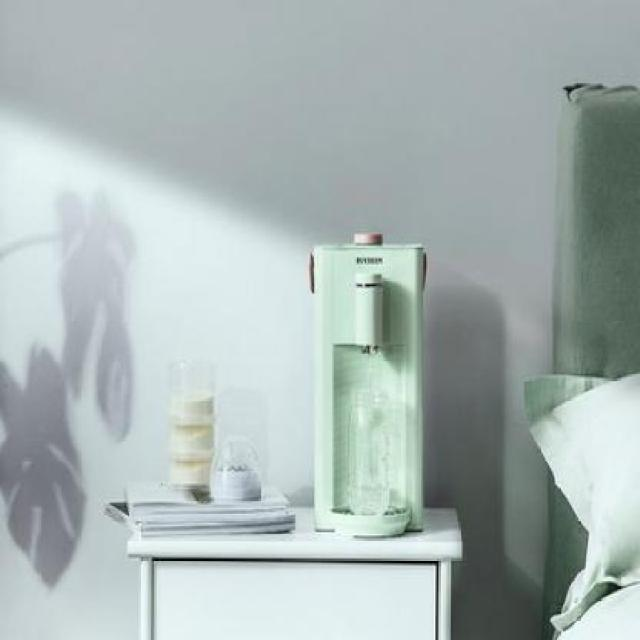cooler: (311, 230, 430, 542)
